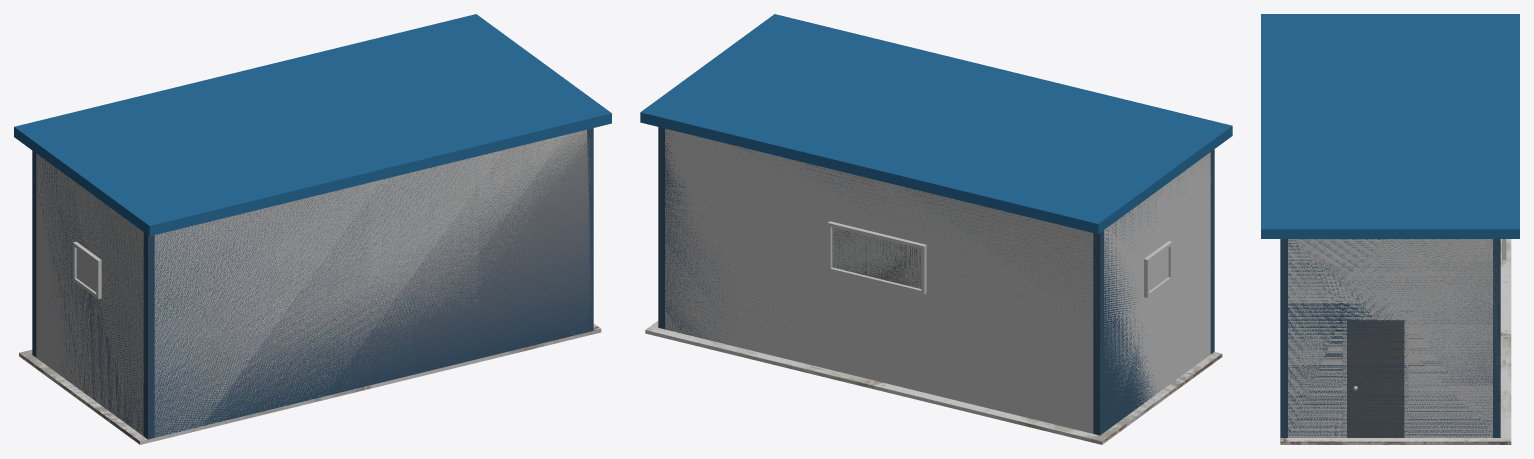
The model's file is s_controlroom.dae.
3 views of the same model, side by side, from view 1: azimuth 30°, elevation 25°; view 2: azimuth 150°, elevation 25°; view 3: azimuth 270°, elevation 25° (orthographic). The views are drawn at different scales.
Parts seen in each view (by area): view 1: s_controlroom_L450, Colmesh_s_controlroom-1; view 2: s_controlroom_L450, Colmesh_s_controlroom-1, s_controlroom_L90; view 3: s_controlroom_L450, Colmesh_s_controlroom-1, s_controlroom_L90.
Boxes of the visible parts, x1=… form: s_controlroom_L450: x1=14, y1=14, x2=611, y2=444; Colmesh_s_controlroom-1: x1=32, y1=128, x2=593, y2=438; s_controlroom_L450: x1=640, y1=14, x2=1232, y2=444; Colmesh_s_controlroom-1: x1=658, y1=128, x2=1214, y2=434; s_controlroom_L90: x1=832, y1=228, x2=921, y2=288; s_controlroom_L450: x1=1261, y1=14, x2=1519, y2=444; Colmesh_s_controlroom-1: x1=1280, y1=239, x2=1500, y2=437; s_controlroom_L90: x1=1347, y1=320, x2=1404, y2=437.
Size of the model in its own units: 7.97 by 4.05 by 3.73.
